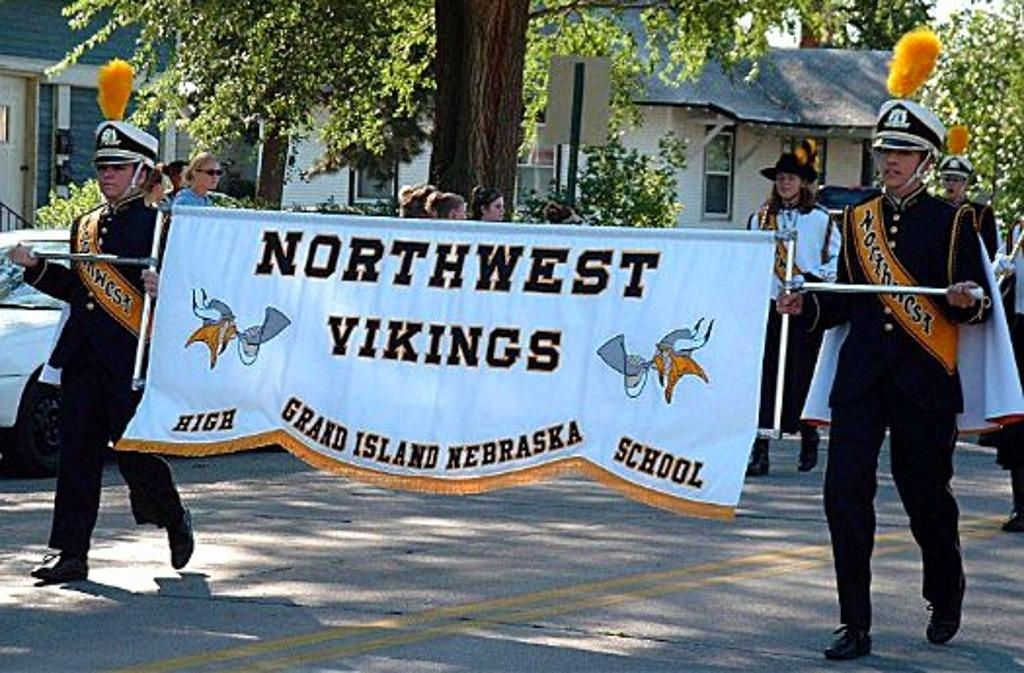human_face: (879, 142, 919, 186), (99, 156, 133, 194), (775, 170, 803, 198), (198, 160, 220, 188), (484, 196, 504, 220), (942, 173, 962, 197), (450, 205, 466, 228), (172, 168, 184, 190), (150, 181, 160, 199), (428, 202, 440, 217), (402, 192, 414, 206)
